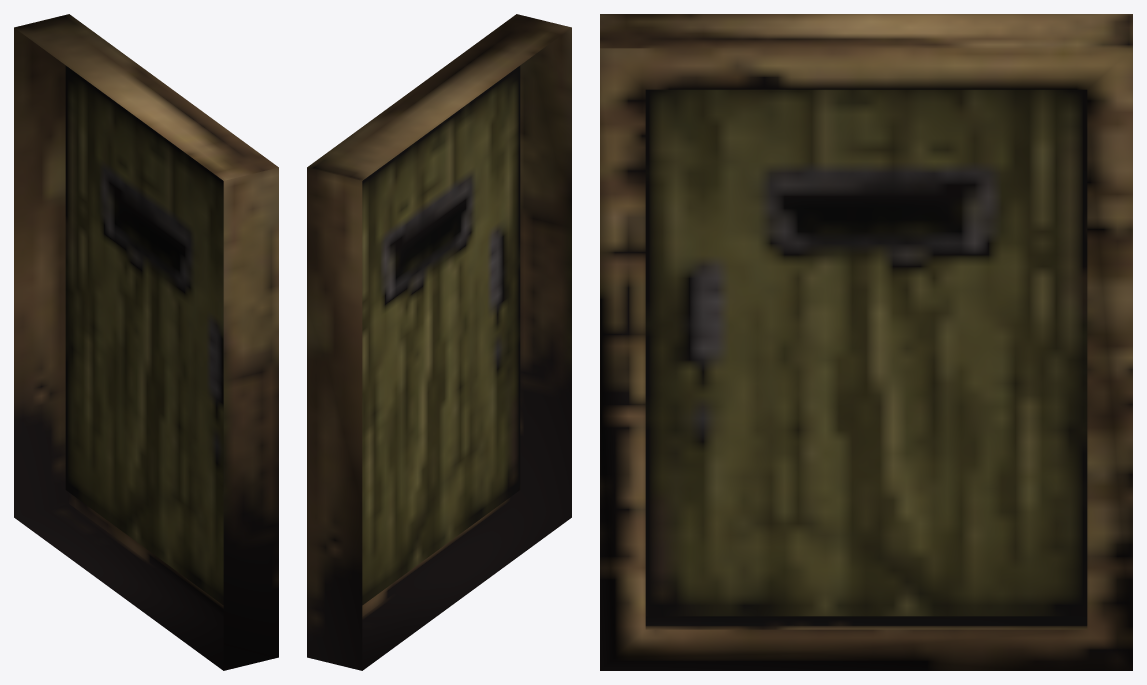
File: HouseDoor1.fbx
3 renders of one model, left to right at view 1: azimuth 30°, elevation 25°; view 2: azimuth 150°, elevation 25°; view 3: azimuth 270°, elevation 25°, orthographic. The views are drawn at different scales.
Parts seen in each view (by area): view 1: HouseDoor; view 2: HouseDoor; view 3: HouseDoor.
Part boxes in pixels (x1,y1,x2,y2): HouseDoor: [14, 14, 278, 670]; HouseDoor: [307, 14, 571, 670]; HouseDoor: [600, 14, 1132, 670].
Bounding box in the file's own units: 41.11 × 348 × 270.
